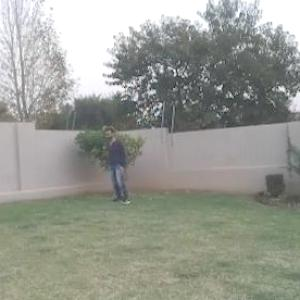follow: (104, 119, 130, 211)
